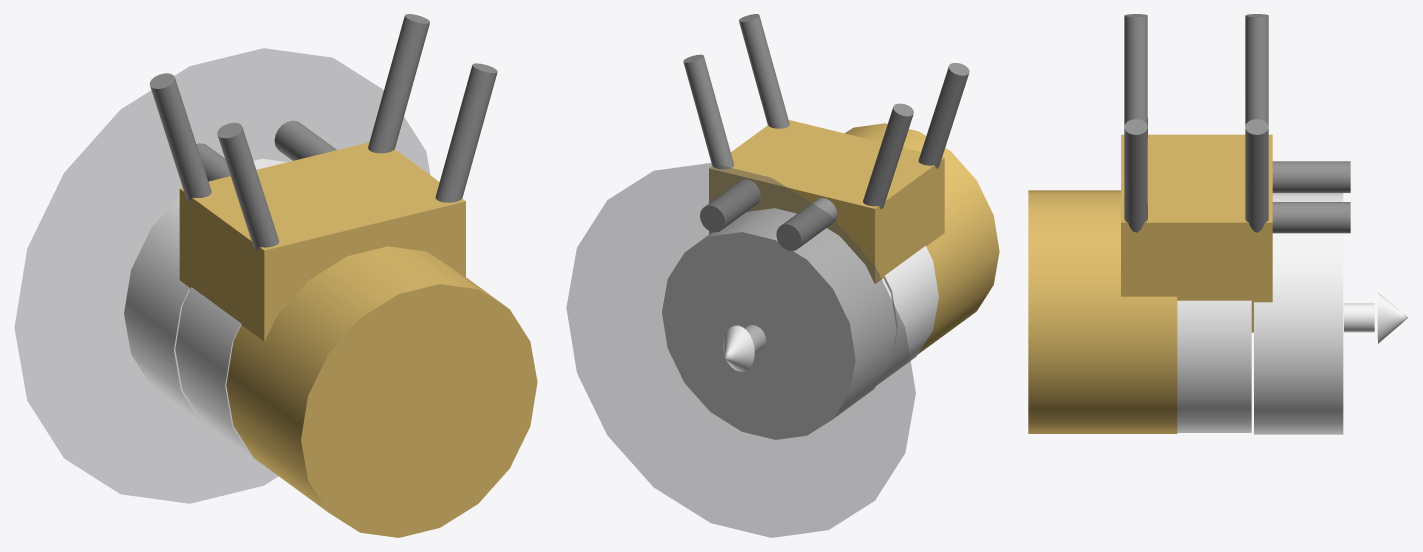
File: debris12.fbx
3 views of the same model, side by side, from view 1: azimuth 30°, elevation 25°; view 2: azimuth 150°, elevation 25°; view 3: azimuth 270°, elevation 25° (orthographic). The views are drawn at different scales.
Parts seen in each view (by area): view 1: Cylinder06, Cylinder13, Box04, Cylinder02, Cylinder03, Cylinder14, Cylinder15, Cylinder16, Cylinder17, Cylinder05, Cylinder01; view 2: Cylinder13, Cylinder02, Box04, Cylinder06, Cylinder03, Cylinder15, Cylinder14, Cylinder16, Cylinder17, Cylinder01, Cylinder05, Cone04; view 3: Cylinder06, Box04, Cylinder02, Cylinder03, Cylinder16, Cylinder17, Cylinder14, Cylinder15, Cylinder01, Cylinder05, Cylinder12, Cone04.
Part boxes in pixels (x1,y1,x2,y2): Cylinder06: [226, 246, 537, 537]; Cylinder13: [14, 48, 429, 503]; Box04: [179, 142, 465, 341]; Cylinder02: [124, 158, 287, 433]; Cylinder03: [175, 287, 262, 464]; Cylinder14: [435, 63, 497, 202]; Cylinder15: [368, 14, 429, 153]; Cylinder16: [217, 122, 279, 250]; Cylinder17: [149, 73, 211, 201]; Cylinder05: [274, 120, 336, 160]; Cylinder01: [196, 143, 230, 181]; Cylinder13: [566, 163, 915, 537]; Cylinder02: [662, 208, 896, 439]; Box04: [709, 120, 944, 283]; Cylinder06: [845, 123, 999, 354]; Cylinder03: [876, 246, 938, 385]; Cylinder15: [683, 54, 734, 169]; Cylinder14: [739, 14, 789, 128]; Cylinder16: [918, 63, 969, 168]; Cylinder17: [863, 103, 913, 209]; Cylinder01: [776, 198, 837, 250]; Cylinder05: [700, 179, 760, 232]; Cone04: [723, 325, 754, 371]; Cylinder06: [1028, 190, 1177, 433]; Box04: [1121, 134, 1272, 332]; Cylinder02: [1254, 193, 1343, 434]; Cylinder03: [1177, 300, 1251, 432]; Cylinder16: [1124, 14, 1147, 137]; Cylinder17: [1245, 14, 1268, 125]; Cylinder14: [1124, 119, 1147, 232]; Cylinder15: [1245, 119, 1268, 232]; Cylinder01: [1272, 161, 1350, 192]; Cylinder05: [1272, 202, 1350, 233]; Cylinder12: [1344, 303, 1374, 332]; Cone04: [1377, 292, 1408, 343].
Size of the model in its own units: 1103 by 1235 by 955.
